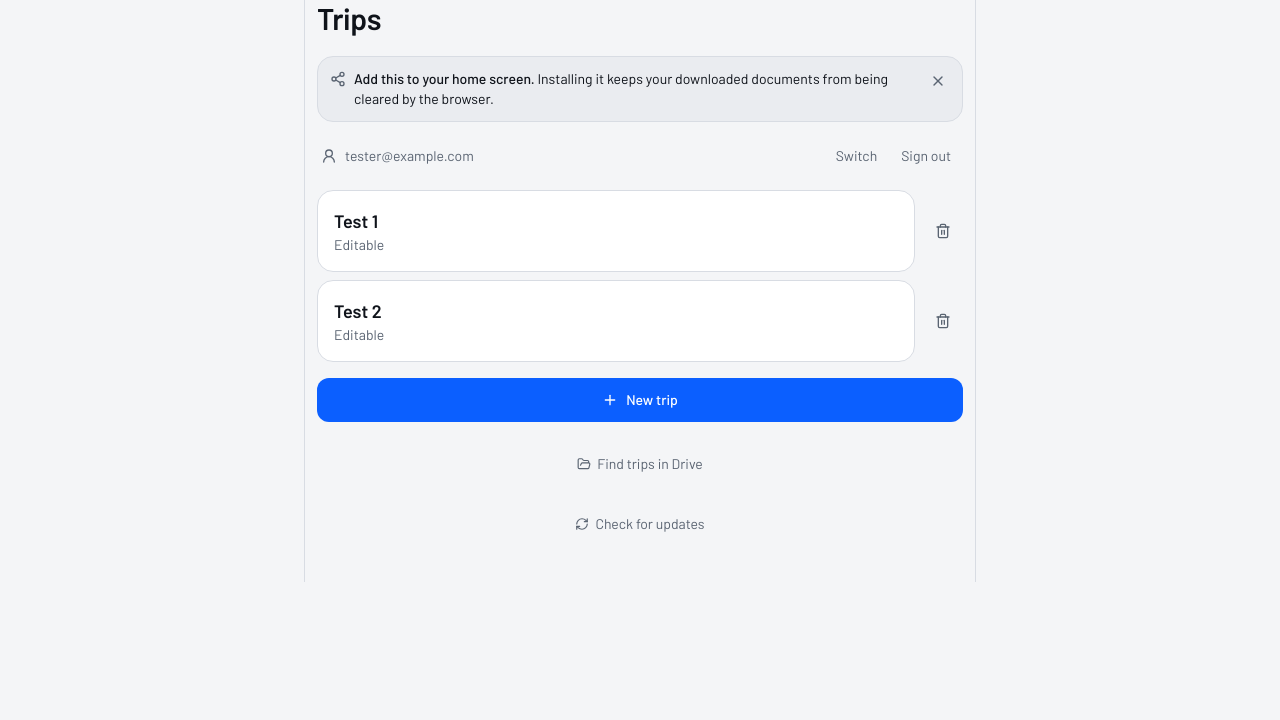
Scenario: deleting a trip › removing from the device leaves the Drive folder intact
Click the button named "Delete Test 1" at (943, 231), box [923,211,963,251]
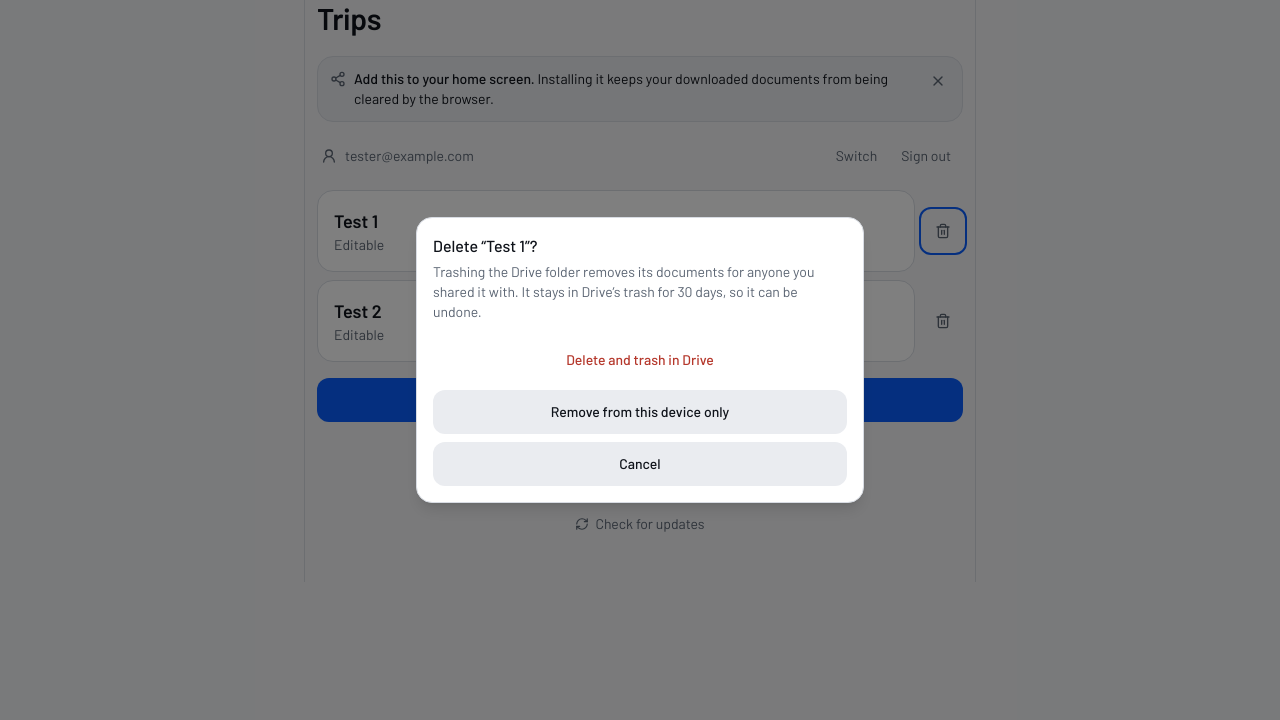
Click the button "Remove from this device only" at (640, 412), box [433,390,847,434]
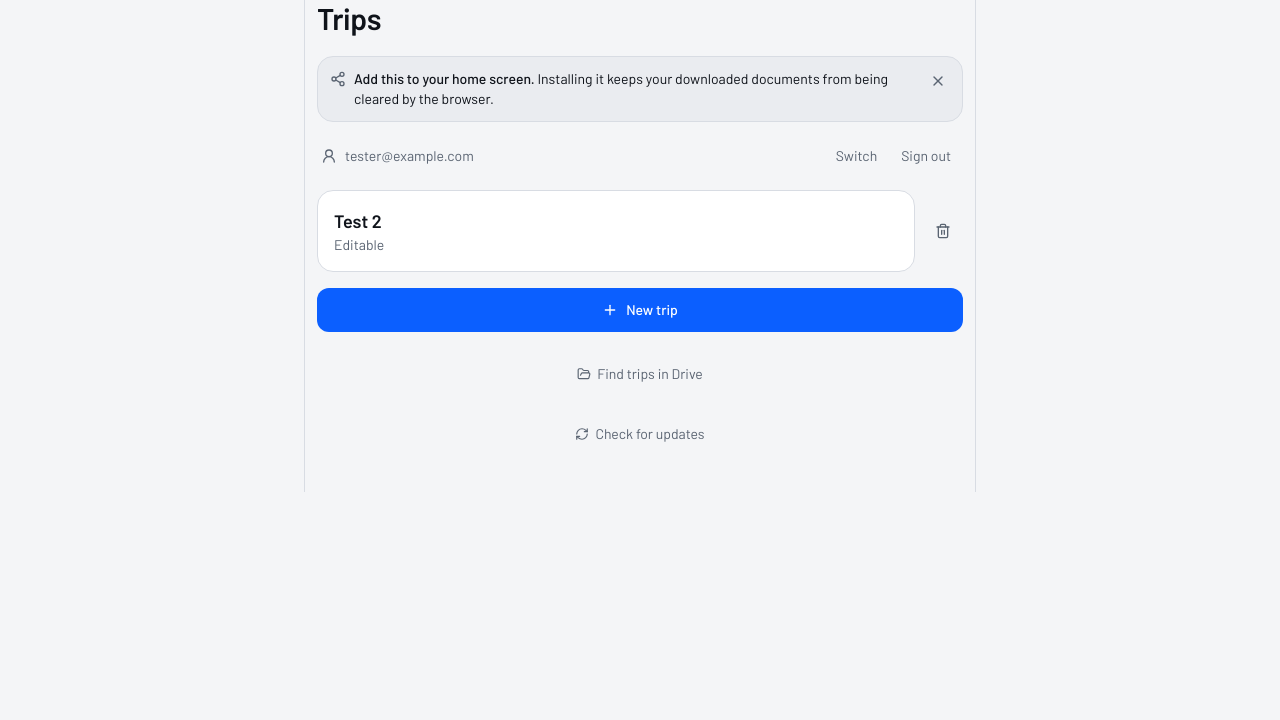
Now the link "Test 1" is gone
